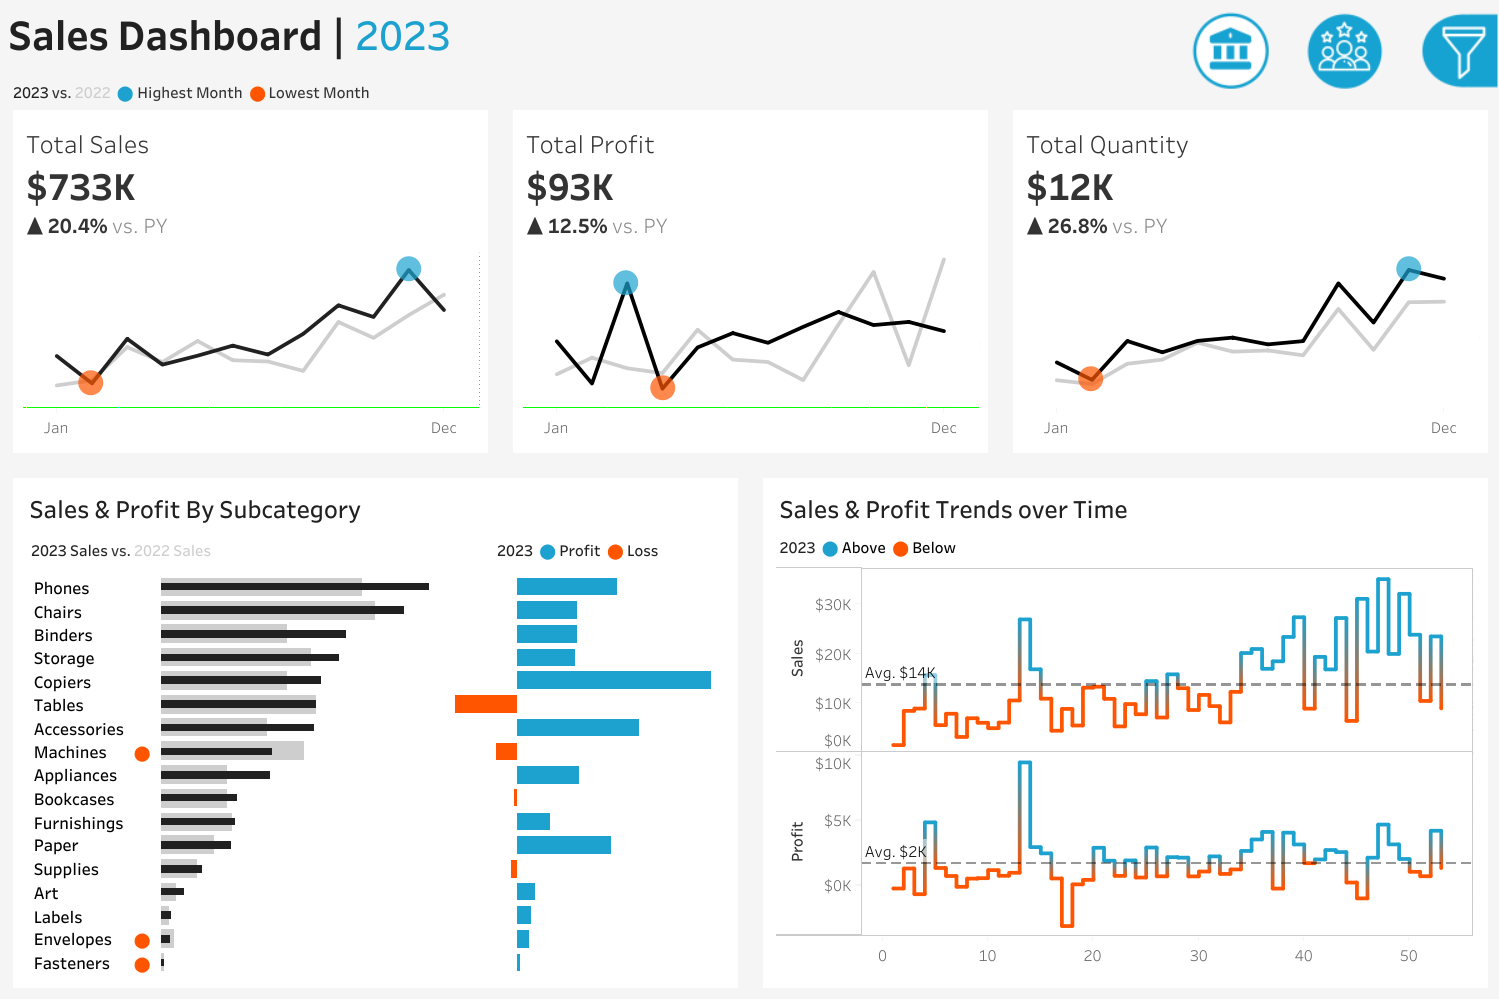

The page's visual inventory and layout, read from the dashboard file:
{"tool":"tableau","page":{"name":"Sales Dashboard","canvas":[1200,800],"ordinal":1},"visuals":[{"type":"text","box":[0,0,1200,59]},{"type":"dashboard-object","box":[940,6,91,70]},{"type":"dashboard-object","box":[1031,6,91,70]},{"type":"blank","box":[952,10,237,86]},{"type":"worksheet","title":"Legend KPI","mark":"Automatic","box":[0,59,1200,29]},{"type":"worksheet","title":"KPI Sales","mark":"Automatic","rows":["Calculation_721701895347843083"],"cols":["Order Date"],"box":[0,88,400,284]},{"type":"worksheet","title":"KPI Profit","mark":"Automatic","rows":["Min/Max Sales (copy)_237846410425847814"],"cols":["Order Date"],"box":[400,88,400,284]},{"type":"worksheet","title":"KPI Quantity","mark":"Automatic","rows":["Min/Max Sales (copy) (copy)_237846410425856007"],"cols":["Order Date"],"box":[800,88,400,284]},{"type":"text","box":[952,96,237,37]},{"type":"parameter","param":"[Parameters].[Parameter 1]","box":[952,133,237,55]},{"type":"text","box":[952,188,237,32]},{"type":"filter","title":"KPI Sales","param":"[federated.1kpxa041aiai2y1cl4pui1t4eju9].[none:Category:nk]","box":[952,220,237,57]},{"type":"filter","title":"KPI Sales","param":"[federated.1kpxa041aiai2y1cl4pui1t4eju9].[none:Sub-Category:nk]","box":[952,277,237,57]},{"type":"blank","box":[952,334,237,60]},{"type":"text","box":[17,389,566,40]},{"type":"text","box":[617,389,566,40]},{"type":"text","box":[952,394,237,32]},{"type":"filter","title":"KPI Sales","param":"[federated.1kpxa041aiai2y1cl4pui1t4eju9].[none:Region:nk]","box":[952,426,237,57]},{"type":"worksheet","title":"Legend Subcategory","mark":"Automatic","box":[17,429,374,32]},{"type":"text","box":[391,429,192,32]},{"type":"text","box":[617,429,566,29]},{"type":"worksheet","title":"Weekly Trends","mark":"Automatic","rows":["Calculation_721701895334993921","CY Sales (copy)_237846410424180736"],"cols":["Order Date"],"box":[617,458,566,325]},{"type":"worksheet","title":"Subcategory Comparison","mark":"Bar","rows":["Sub-Category","Calculation_2435040078806671369"],"cols":["CY Sales (copy)_721701895335804930","Calculation_721701895334993921","CY Sales (copy)_237846410424180736"],"box":[17,461,566,321.9]},{"type":"filter","title":"KPI Sales","param":"[federated.1kpxa041aiai2y1cl4pui1t4eju9].[none:State:nk]","box":[952,483,237,57]},{"type":"filter","title":"KPI Sales","param":"[federated.1kpxa041aiai2y1cl4pui1t4eju9].[none:City:nk]","box":[952,540,237,57]}]}

Visuals, with their boxes in screenshot pixels (x1, y1, x2, y2), scaled from the page's 1200x800 canvas onto the 1499x999 screenshot:
text: (x1=0, y1=0, x2=1498, y2=74)
dashboard-object: (x1=1174, y1=7, x2=1288, y2=95)
dashboard-object: (x1=1288, y1=7, x2=1402, y2=95)
blank: (x1=1189, y1=12, x2=1485, y2=120)
"Legend KPI" worksheet: (x1=0, y1=74, x2=1498, y2=110)
"KPI Sales" worksheet: (x1=0, y1=110, x2=500, y2=465)
"KPI Profit" worksheet: (x1=500, y1=110, x2=999, y2=465)
"KPI Quantity" worksheet: (x1=999, y1=110, x2=1498, y2=465)
text: (x1=1189, y1=120, x2=1485, y2=166)
parameter: (x1=1189, y1=166, x2=1485, y2=235)
text: (x1=1189, y1=235, x2=1485, y2=275)
"KPI Sales" filter: (x1=1189, y1=275, x2=1485, y2=346)
"KPI Sales" filter: (x1=1189, y1=346, x2=1485, y2=417)
blank: (x1=1189, y1=417, x2=1485, y2=492)
text: (x1=21, y1=486, x2=728, y2=536)
text: (x1=771, y1=486, x2=1478, y2=536)
text: (x1=1189, y1=492, x2=1485, y2=532)
"KPI Sales" filter: (x1=1189, y1=532, x2=1485, y2=603)
"Legend Subcategory" worksheet: (x1=21, y1=536, x2=488, y2=576)
text: (x1=488, y1=536, x2=728, y2=576)
text: (x1=771, y1=536, x2=1478, y2=572)
"Weekly Trends" worksheet: (x1=771, y1=572, x2=1478, y2=978)
"Subcategory Comparison" worksheet (Bar marks): (x1=21, y1=576, x2=728, y2=978)
"KPI Sales" filter: (x1=1189, y1=603, x2=1485, y2=674)
"KPI Sales" filter: (x1=1189, y1=674, x2=1485, y2=746)
